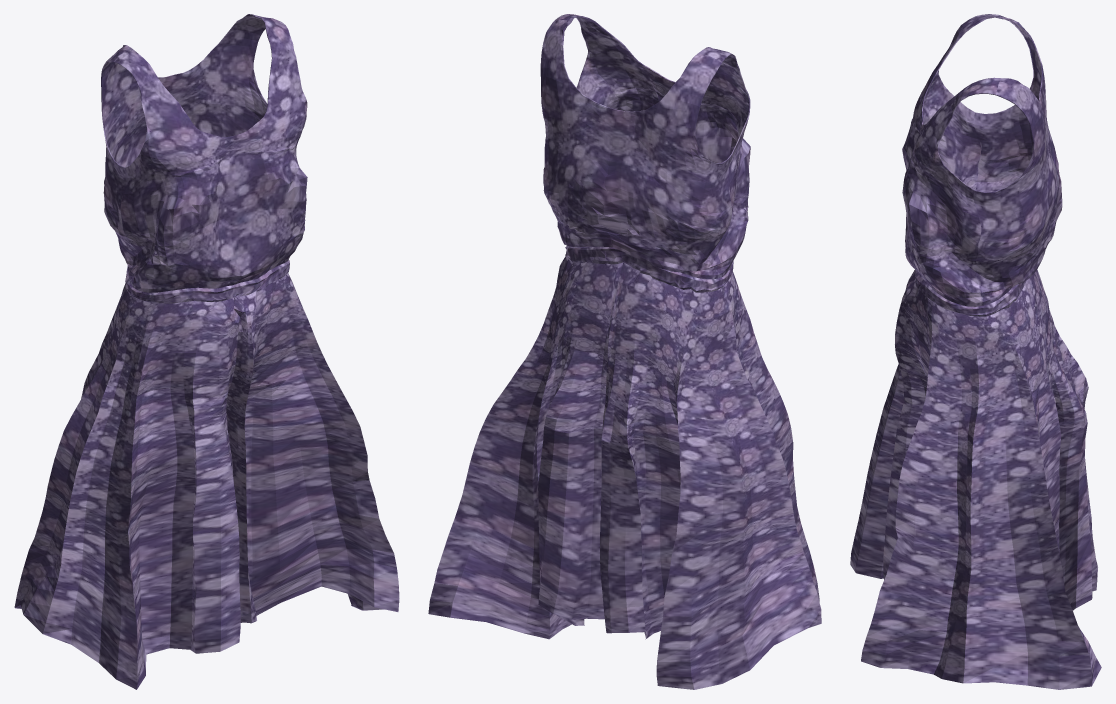
Rendered from mhw_toigo_camisole_dress_with_full_skirt.glb.
3 renders of one model, left to right at view 1: azimuth 30°, elevation 25°; view 2: azimuth 150°, elevation 25°; view 3: azimuth 270°, elevation 25°, orthographic. The views are drawn at different scales.
Parts seen in each view (by area): view 1: mhw_toigo_camisole_dress_with_full_skirt; view 2: mhw_toigo_camisole_dress_with_full_skirt; view 3: mhw_toigo_camisole_dress_with_full_skirt.
Boxes of the visible parts, x1,y1,x2,y2 form: mhw_toigo_camisole_dress_with_full_skirt: (14,14,399,689); mhw_toigo_camisole_dress_with_full_skirt: (428,14,821,689); mhw_toigo_camisole_dress_with_full_skirt: (850,14,1101,689).
Size of the model in its own units: 0.7244 by 1.2 by 0.4725.
Materials: 1 (1 with a texture image).
